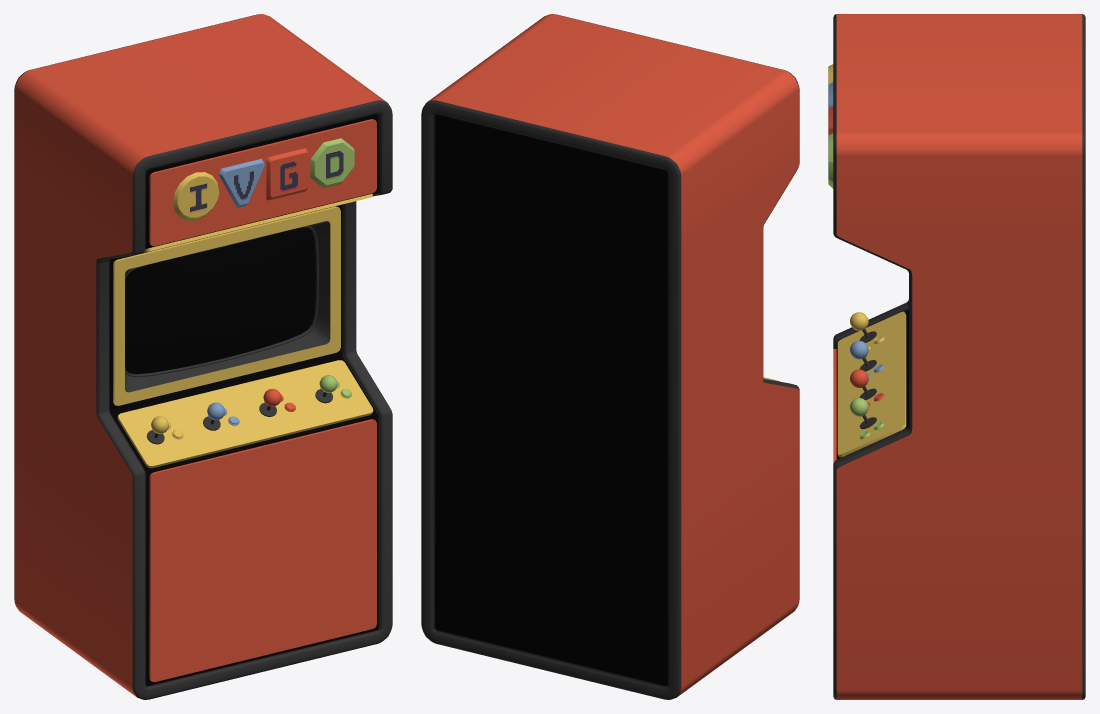
File: IVGD Arcade Box.fbx
3 views of the same model, side by side, from view 1: azimuth 30°, elevation 25°; view 2: azimuth 150°, elevation 25°; view 3: azimuth 270°, elevation 25° (orthographic). The views are drawn at different scales.
Parts seen in each view (by area): view 1: IVGD Arcade Box, IVGD Arcade Screen, IVGD Arcade Lettering; view 2: IVGD Arcade Box; view 3: IVGD Arcade Box, IVGD Arcade Lettering.
Boxes of the visible parts, x1=… form: IVGD Arcade Box: x1=14, y1=14, x2=392, y2=699; IVGD Arcade Screen: x1=125, y1=227, x2=315, y2=374; IVGD Arcade Lettering: x1=173, y1=138, x2=354, y2=220; IVGD Arcade Box: x1=421, y1=14, x2=799, y2=699; IVGD Arcade Box: x1=833, y1=14, x2=1085, y2=699; IVGD Arcade Lettering: x1=828, y1=64, x2=833, y2=188.
Size of the model in its own units: 124 by 248 by 102.
